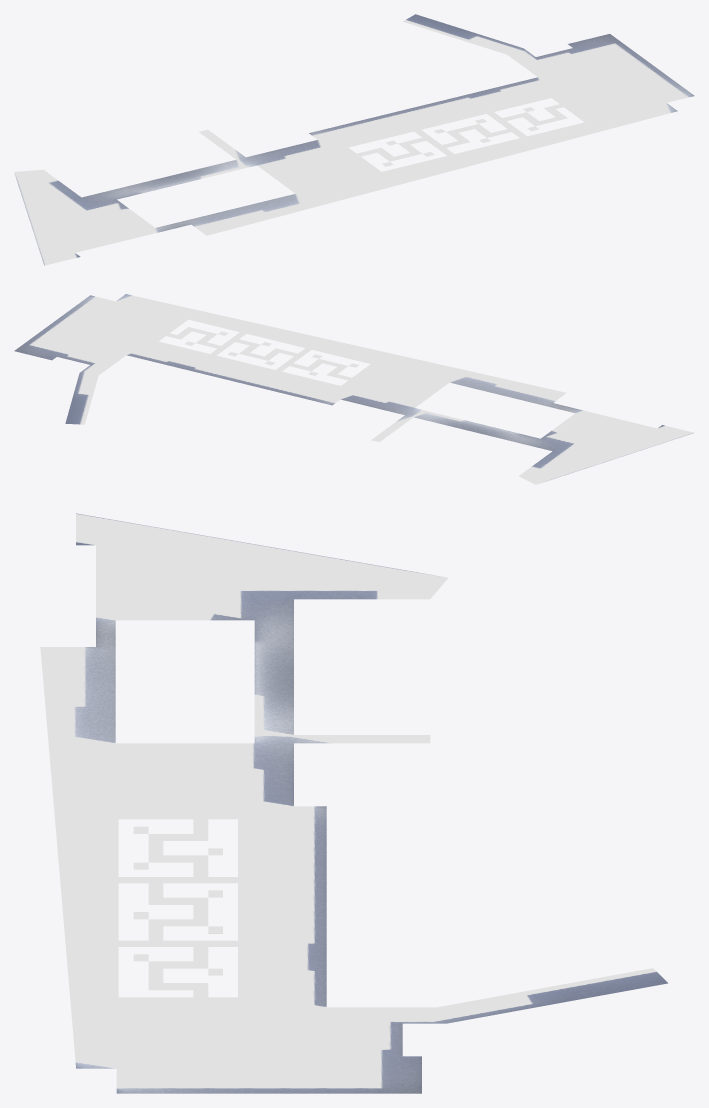
File: Asfalto cucinato 2K.glb
The picture shows the model from 3 angles, top to bottom: view 1: azimuth 30°, elevation 25°; view 2: azimuth 150°, elevation 25°; view 3: azimuth 270°, elevation 25°; orthographic projection. The views are drawn at different scales.
Parts seen in each view (by area): view 1: Obj_000001_1; view 2: Obj_000001_1; view 3: Obj_000001_1.
Boxes of the visible parts, bbox=[...] form: Obj_000001_1: bbox=[14, 14, 694, 265]; Obj_000001_1: bbox=[14, 294, 694, 484]; Obj_000001_1: bbox=[40, 513, 667, 1093].
Size of the model in its own units: 230 by 1.77e-05 by 105.
1 material, 1 textured.
